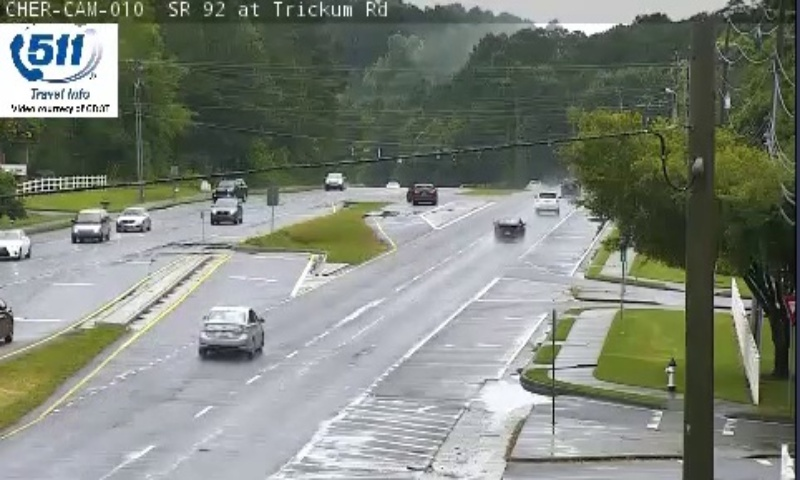car: (199, 306, 263, 351), (494, 216, 524, 243)
